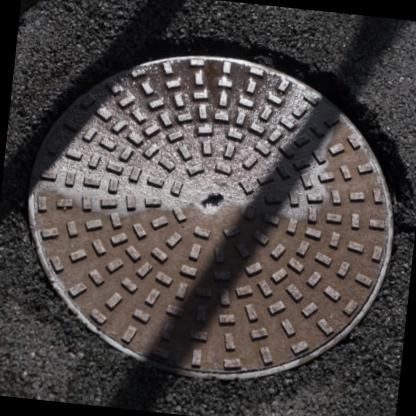manholes: (1, 7, 416, 412)
